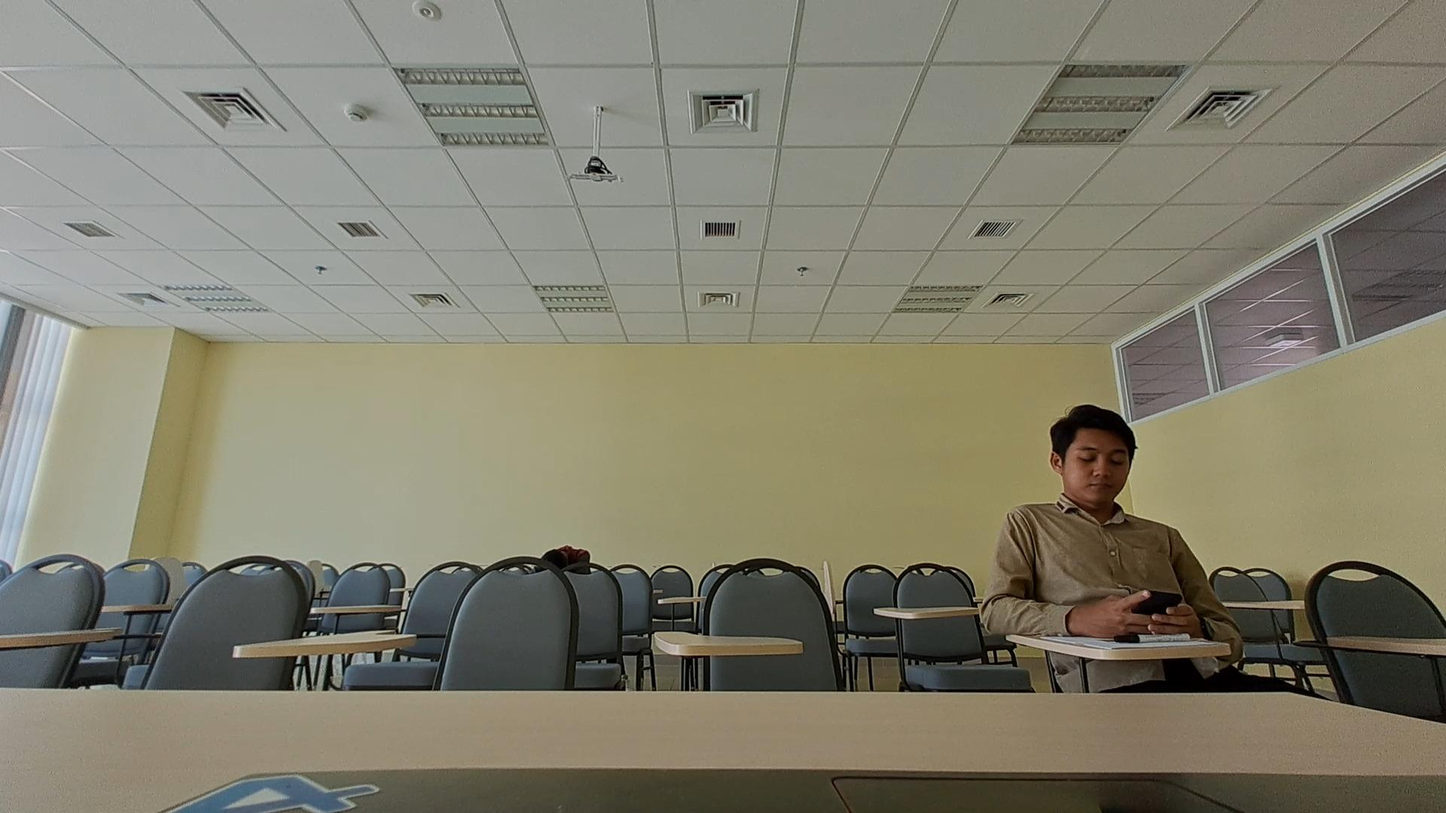phone: (980, 403, 1236, 644)
